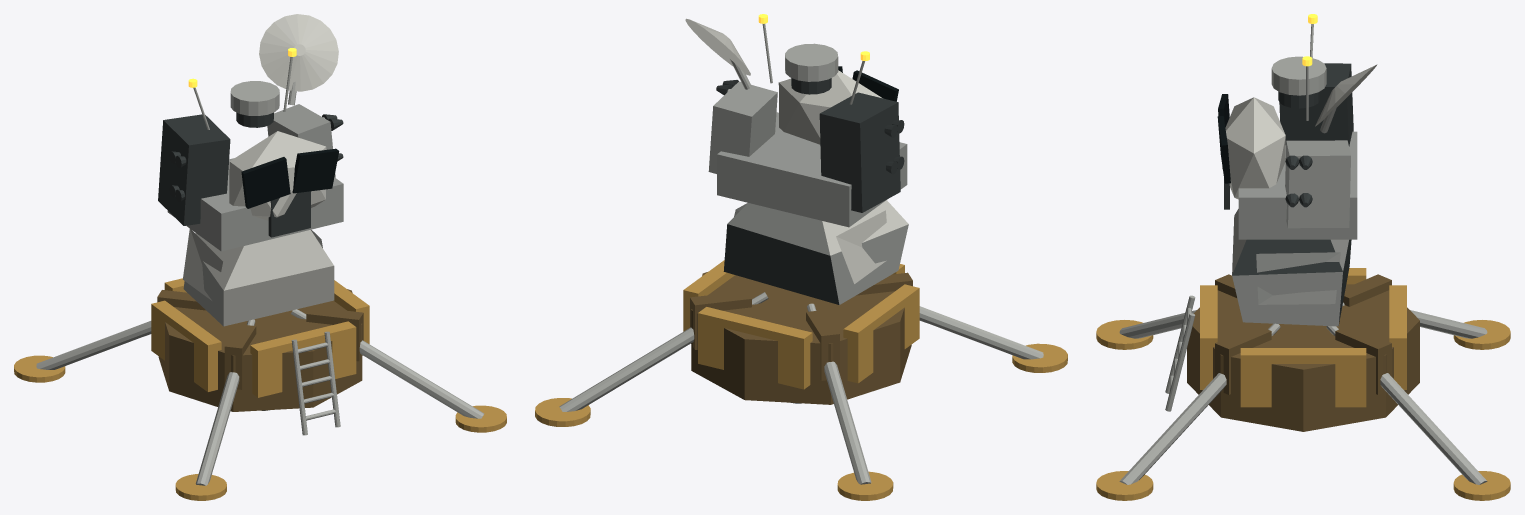
The model's file is eagle-low-poly.glb.
3 renders of one model, left to right at view 1: azimuth 30°, elevation 25°; view 2: azimuth 150°, elevation 25°; view 3: azimuth 270°, elevation 25°, orthographic. The views are drawn at different scales.
Visible parts, largest first — view 1: AscentStage, DescentStage, EquipmentBay, DishBowl, CabinLower, FoilPanel_1, CabinForward, FoilPanel_4, Leg_3, LeftWindow, RightEquipmentBay, RightWindow (+14 smaller); view 2: DescentStage, AscentStage, CabinLower, EquipmentBay, FoilPanel_3, RightEquipmentBay, FoilPanel_4, CabinForward, Leg_1, Leg_2, DockingCollar, Leg_4 (+10 smaller); view 3: DescentStage, AscentStage, RightEquipmentBay, FoilPanel_2, CabinForward, CabinLower, EquipmentBay, AscentFoil_Right, Leg_1, Leg_3, DockingCollar, FoilPanel_1 (+14 smaller).
Boxes of the visible parts, x1,y1,x2,y2 form: AscentStage: [183, 230, 334, 326]; DescentStage: [158, 289, 362, 411]; EquipmentBay: [158, 114, 230, 225]; DishBowl: [259, 14, 338, 91]; CabinLower: [167, 158, 343, 251]; FoilPanel_1: [250, 321, 356, 397]; CabinForward: [229, 131, 326, 220]; FoilPanel_4: [151, 300, 221, 391]; Leg_3: [359, 340, 484, 418]; LeftWindow: [241, 157, 290, 208]; RightEquipmentBay: [267, 104, 335, 177]; RightWindow: [292, 148, 339, 193]; DescentStage: [691, 272, 911, 404]; AscentStage: [723, 200, 908, 304]; CabinLower: [717, 112, 907, 227]; EquipmentBay: [819, 92, 900, 212]; FoilPanel_3: [698, 307, 812, 389]; RightEquipmentBay: [708, 81, 777, 173]; FoilPanel_4: [843, 284, 919, 383]; CabinForward: [778, 70, 882, 144]; Leg_1: [559, 327, 694, 411]; Leg_2: [824, 361, 871, 484]; DockingCollar: [785, 43, 838, 81]; Leg_4: [919, 306, 1043, 359]; DescentStage: [1187, 284, 1419, 431]; AscentStage: [1232, 209, 1351, 326]; RightEquipmentBay: [1285, 140, 1350, 228]; FoilPanel_2: [1240, 348, 1366, 407]; CabinForward: [1222, 97, 1285, 199]; CabinLower: [1238, 131, 1357, 239]; EquipmentBay: [1279, 63, 1353, 146]; AscentFoil_Right: [1256, 252, 1340, 304]; Leg_1: [1380, 373, 1487, 484]; Leg_3: [1119, 373, 1226, 484]; DockingCollar: [1271, 56, 1326, 95]; FoilPanel_1: [1200, 285, 1217, 389].
Bounding box in the file's own units: 7.54 × 7.69 × 7.54.
